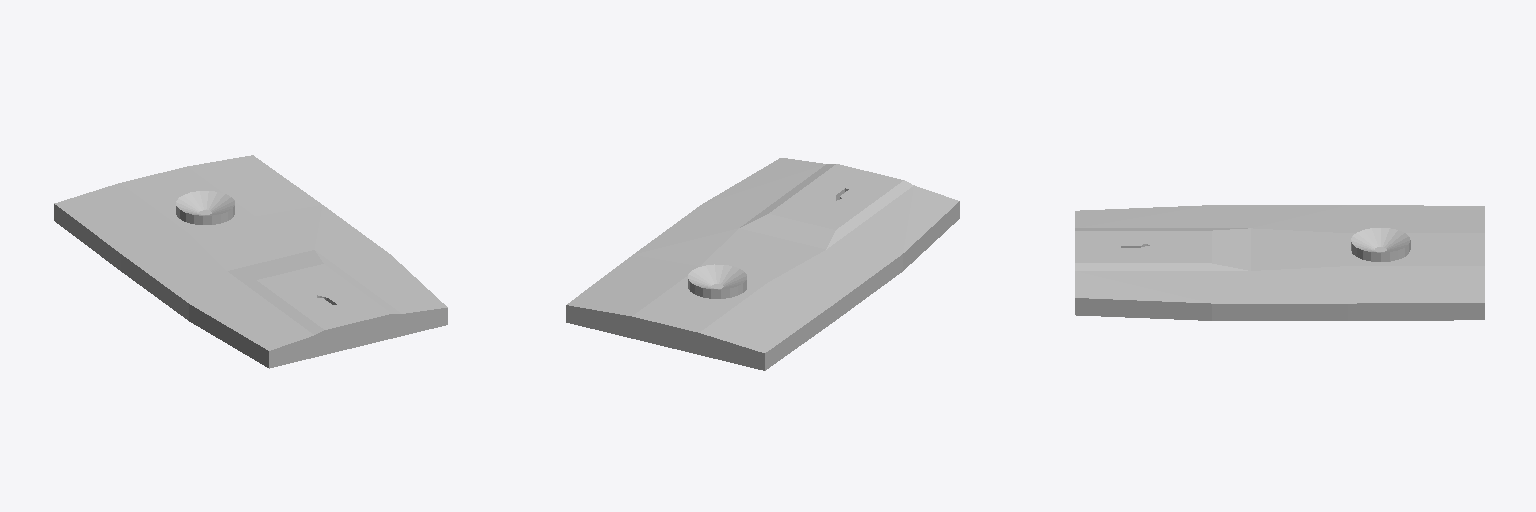
File: Door_Mech.obj
3 renders of one model, left to right at view 1: azimuth 30°, elevation 25°; view 2: azimuth 150°, elevation 25°; view 3: azimuth 270°, elevation 25°, orthographic.
Parts seen in each view (by area): view 1: DoorMechanism; view 2: DoorMechanism; view 3: DoorMechanism.
Boxes of the visible parts, x1,y1,x2,y2 form: DoorMechanism: [54, 155, 447, 368]; DoorMechanism: [566, 158, 959, 370]; DoorMechanism: [1075, 205, 1484, 320].
Size of the model in its own units: 2.92 by 0.4371 by 5.13.